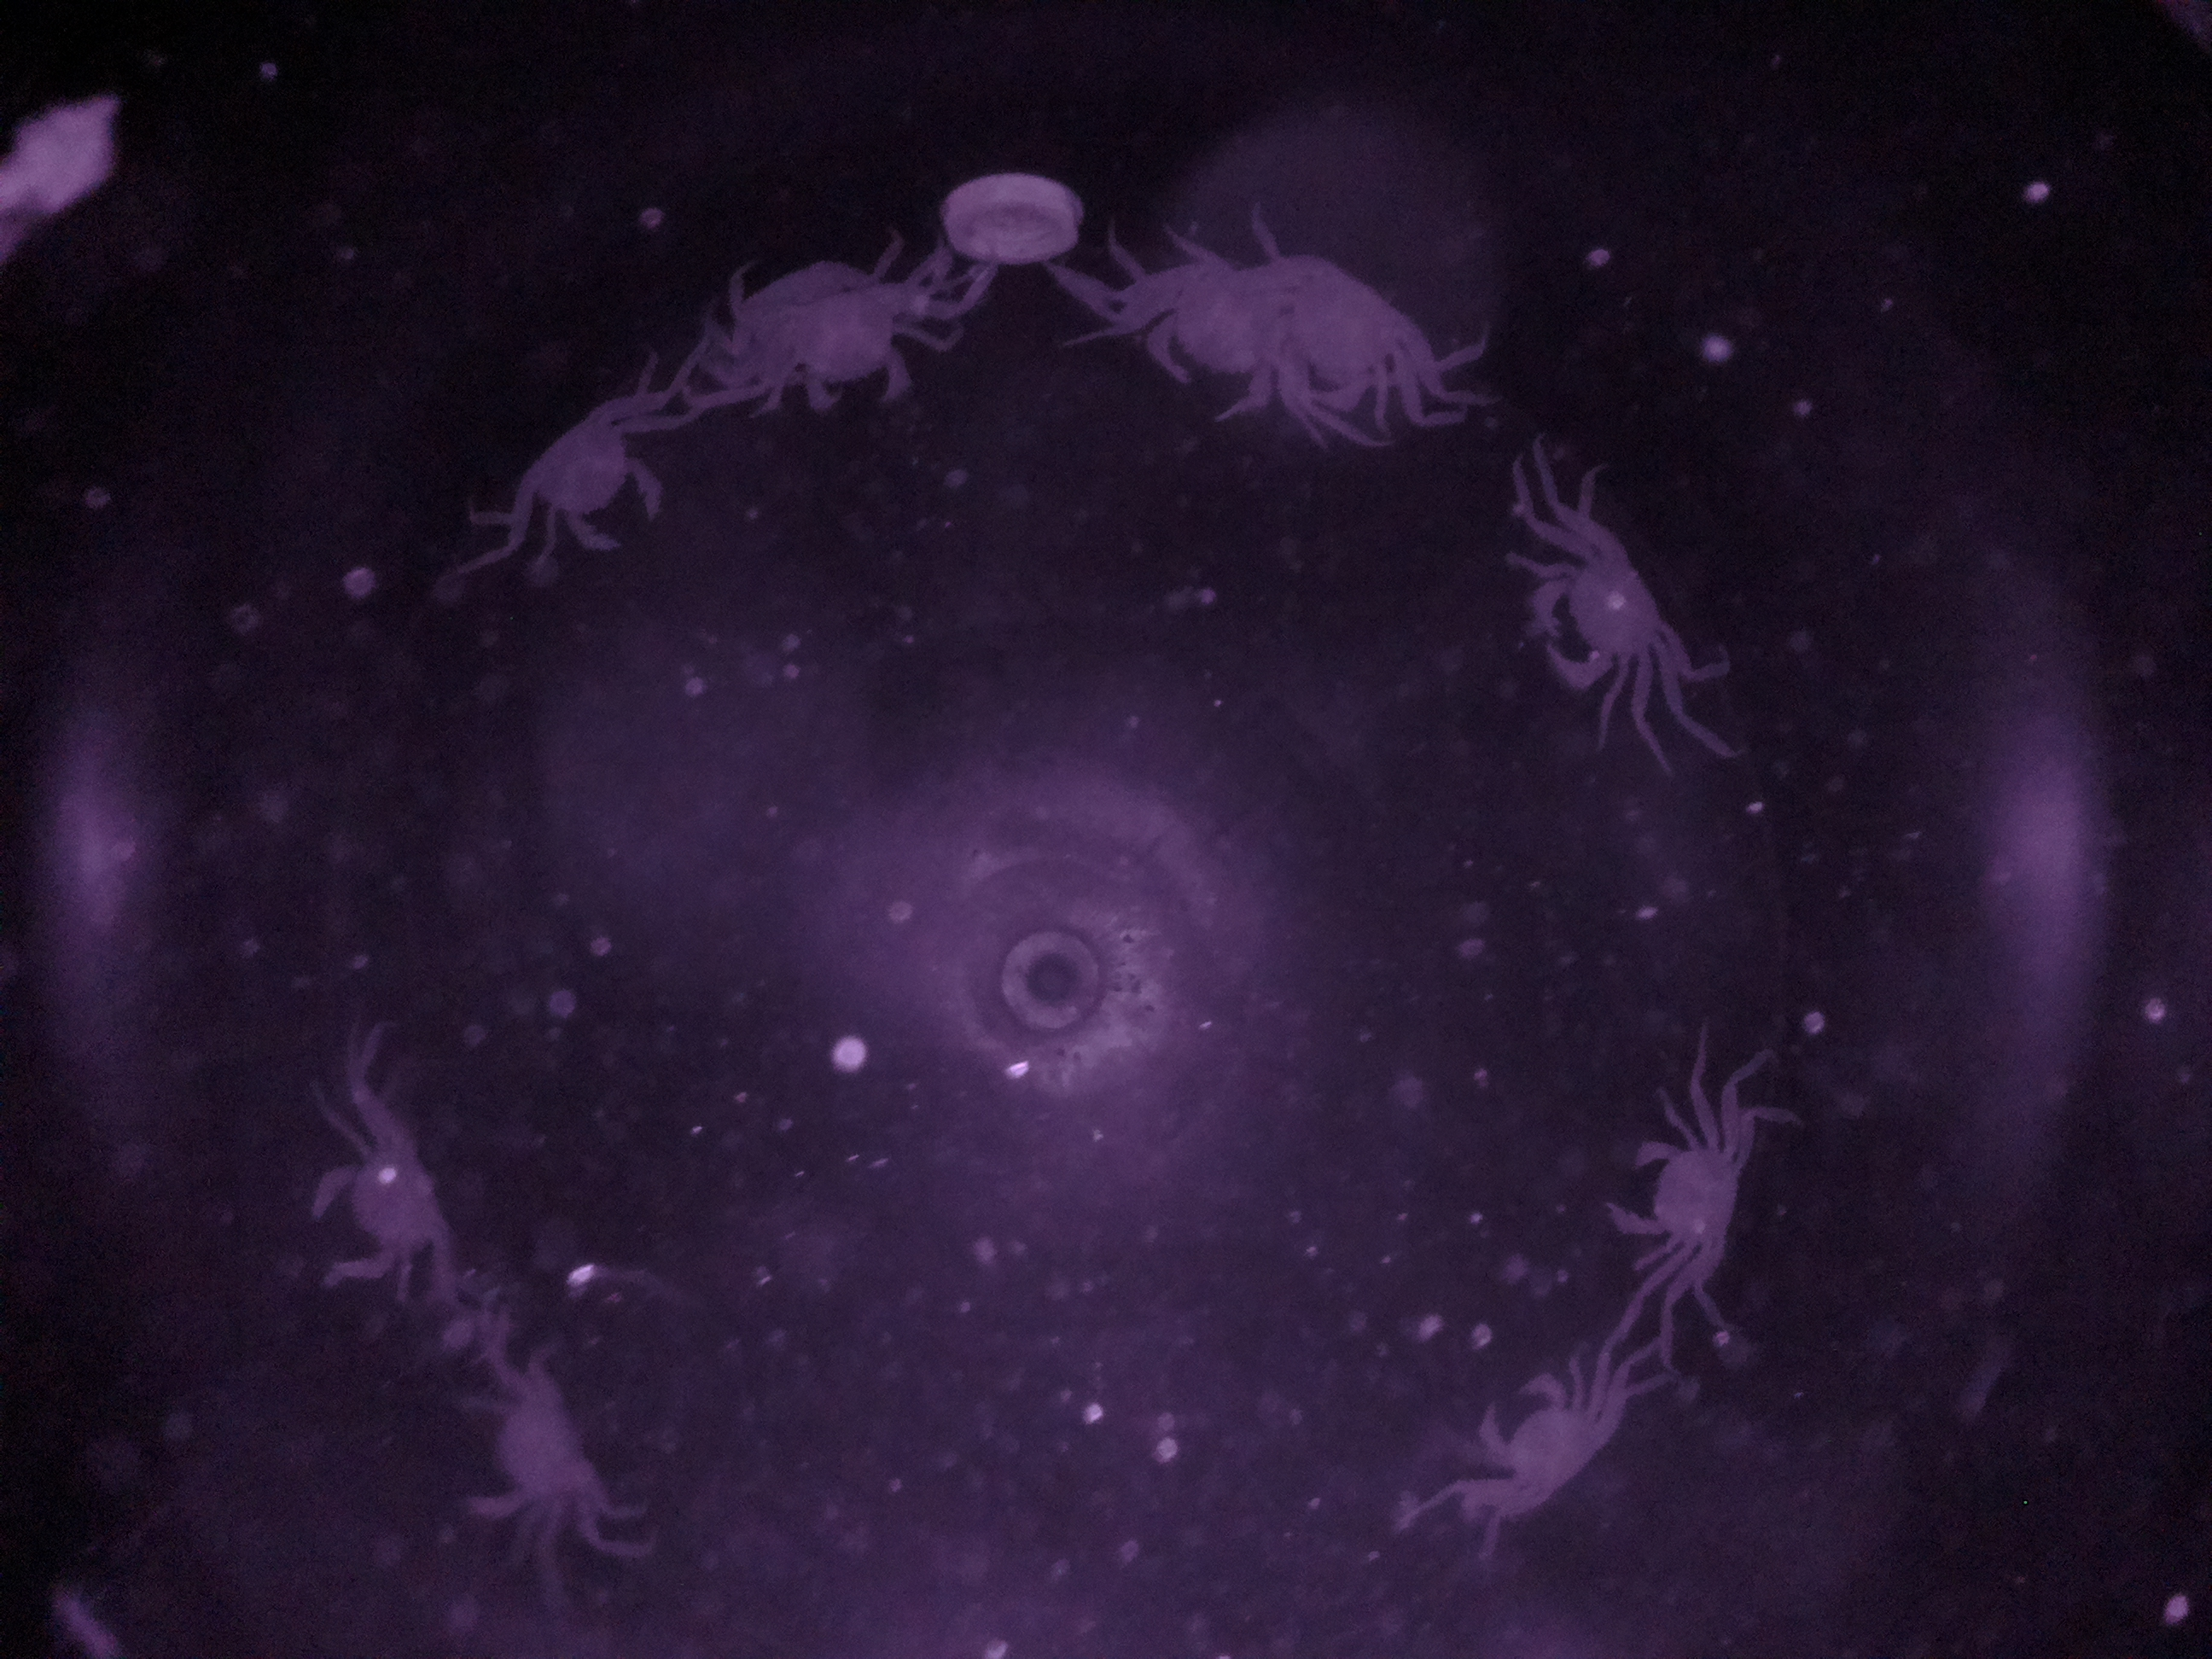Crab: (1507, 500, 1681, 728), (1599, 1079, 1778, 1298), (493, 387, 678, 582), (1463, 1345, 1630, 1542)
